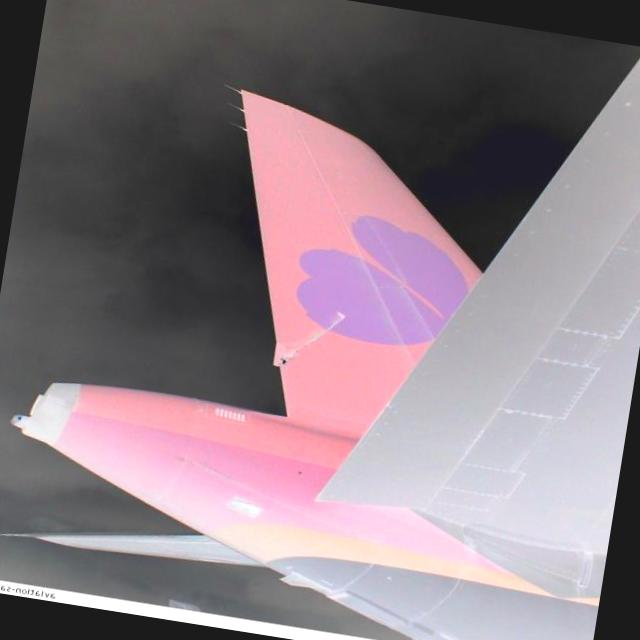crack: (270, 296, 356, 382)
